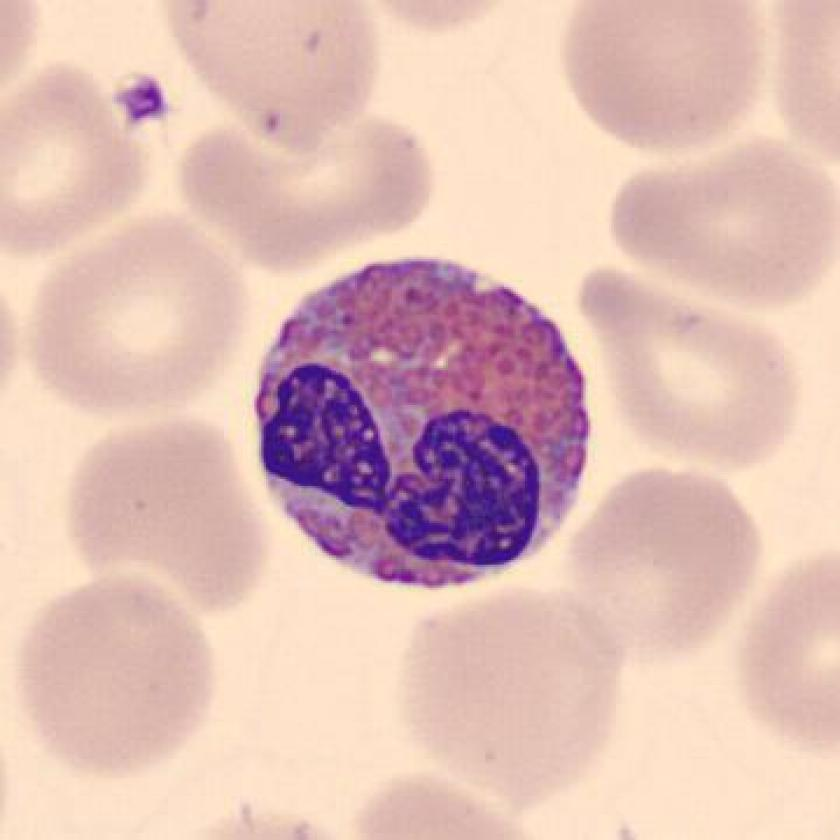eosinophil: (234, 242, 608, 607)
